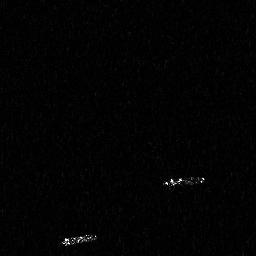ship: (161, 173, 207, 192), (59, 231, 100, 249)
